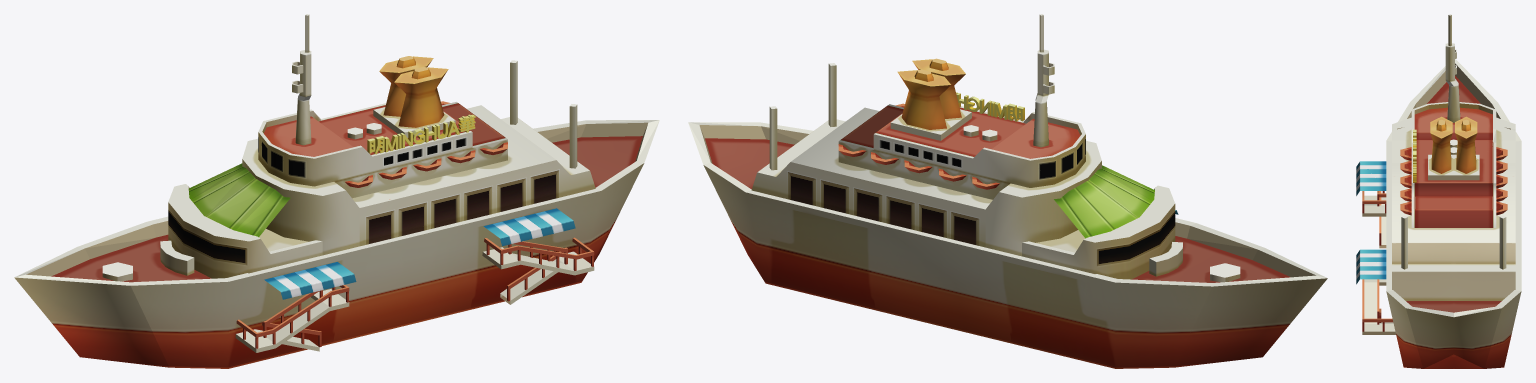
Rendered from lunchuan.FBX.
The picture shows the model from 3 angles, left to right: view 1: azimuth 30°, elevation 25°; view 2: azimuth 150°, elevation 25°; view 3: azimuth 270°, elevation 25°; orthographic projection. The views are drawn at different scales.
Parts seen in each view (by area): view 1: lunchuan; view 2: lunchuan; view 3: lunchuan.
Part boxes in pixels (x1=…): lunchuan: x1=14, y1=14, x2=659, y2=368; lunchuan: x1=688, y1=14, x2=1327, y2=368; lunchuan: x1=1356, y1=14, x2=1521, y2=368.
Bounding box in the file's own units: 2586 × 1176 × 694.
Materials: 1 (1 with a texture image).
